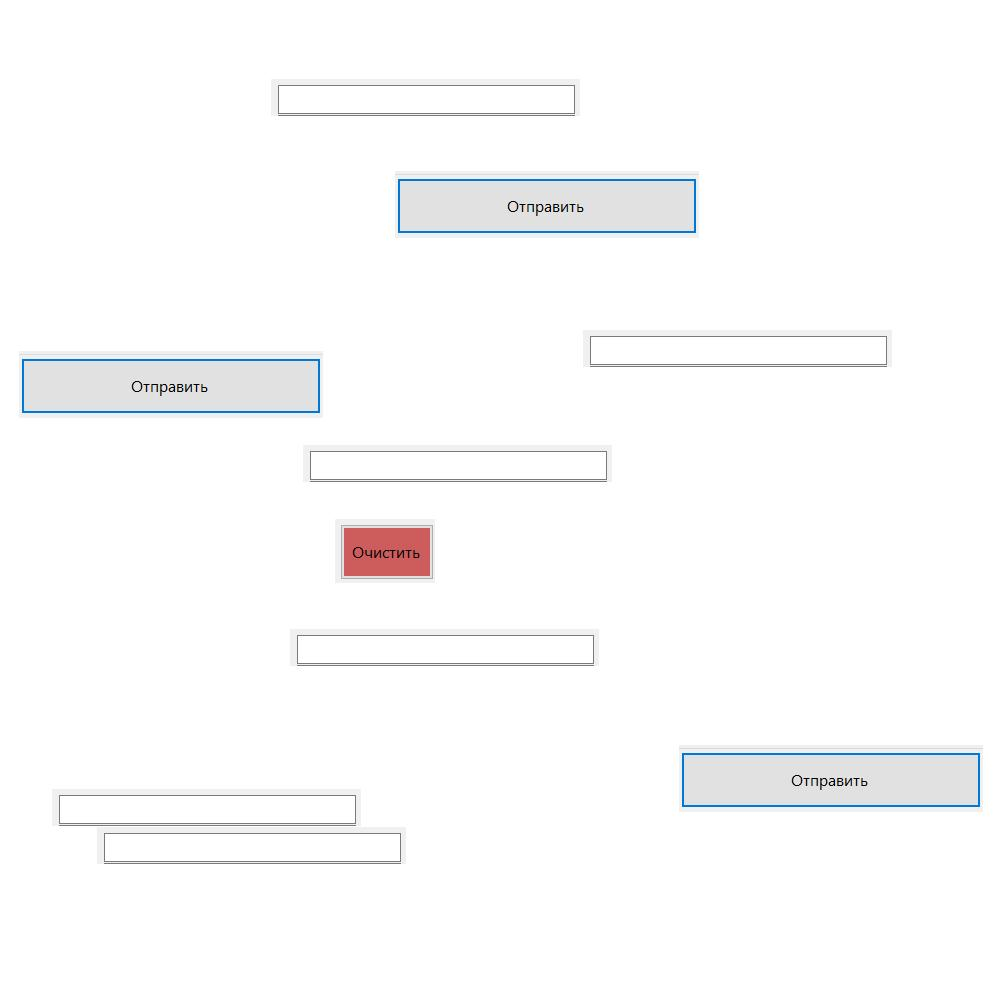Button: (395, 171, 699, 238), (679, 745, 983, 812), (19, 351, 323, 418), (335, 519, 435, 583)
EditText-: (303, 445, 612, 482), (271, 79, 580, 116), (52, 789, 361, 826), (583, 330, 892, 367), (290, 629, 599, 666), (97, 827, 406, 864)
